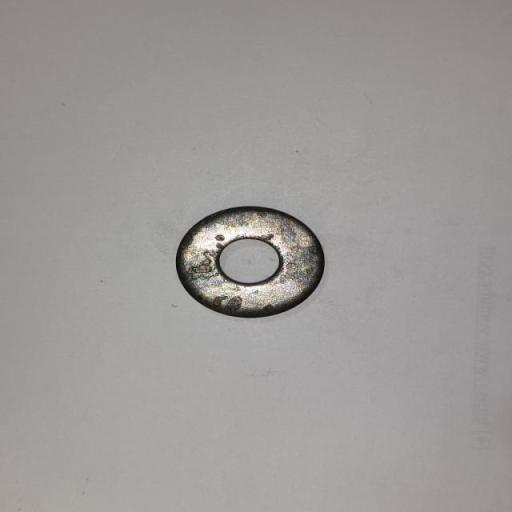Washer: (175, 205, 326, 319)
